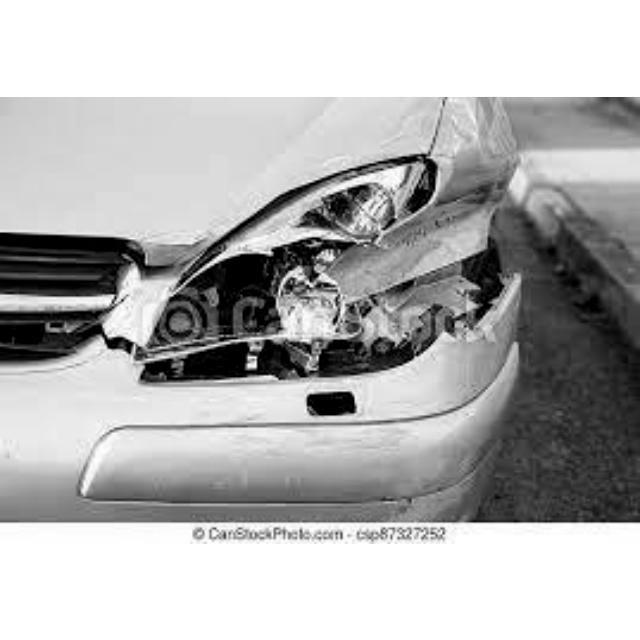Headlight-damage: (100, 137, 521, 420)
